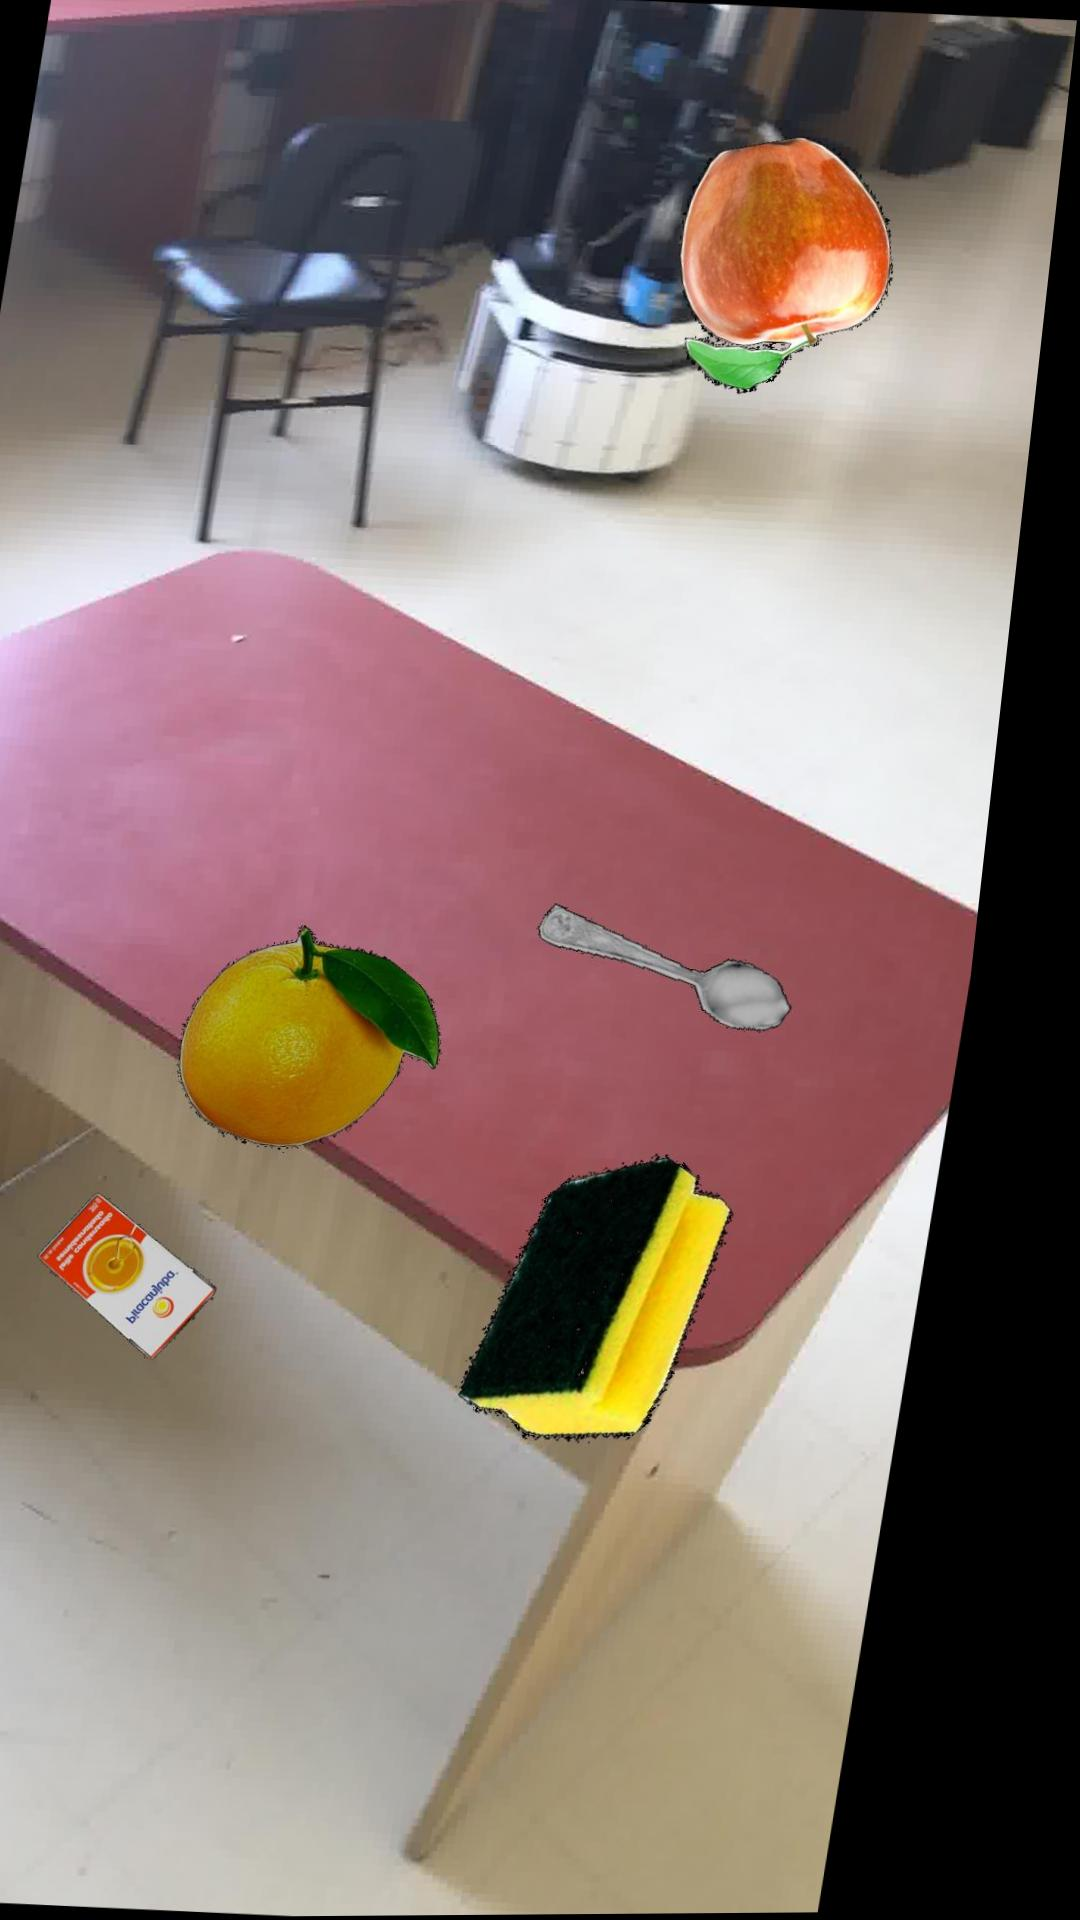apple: (683, 135, 897, 392)
orange: (202, 923, 463, 1145)
sponge: (489, 1153, 760, 1440)
spoon: (556, 902, 812, 1030)
